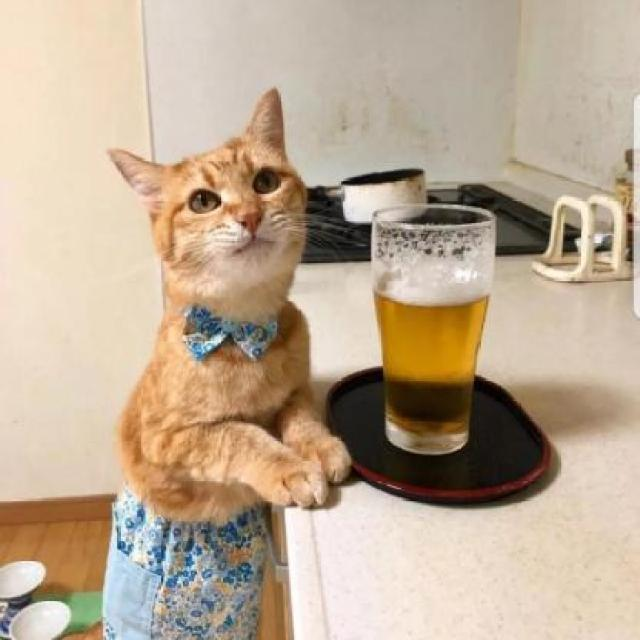cat: (87, 92, 371, 517)
